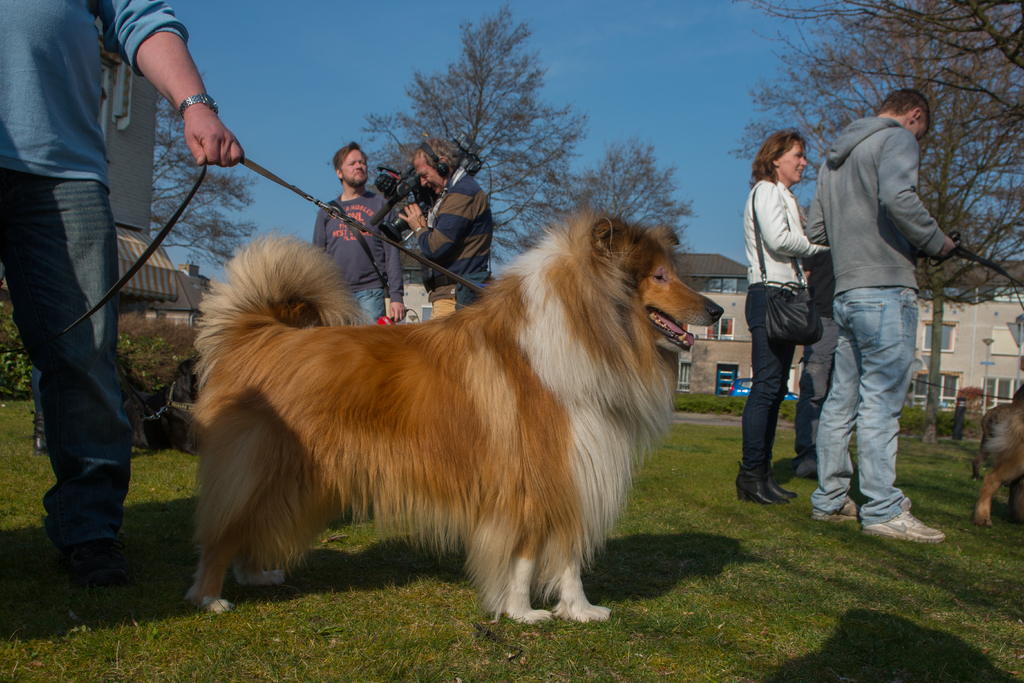Tree: (726, 0, 1024, 445), (363, 0, 592, 282), (516, 133, 691, 262), (152, 72, 259, 268)
